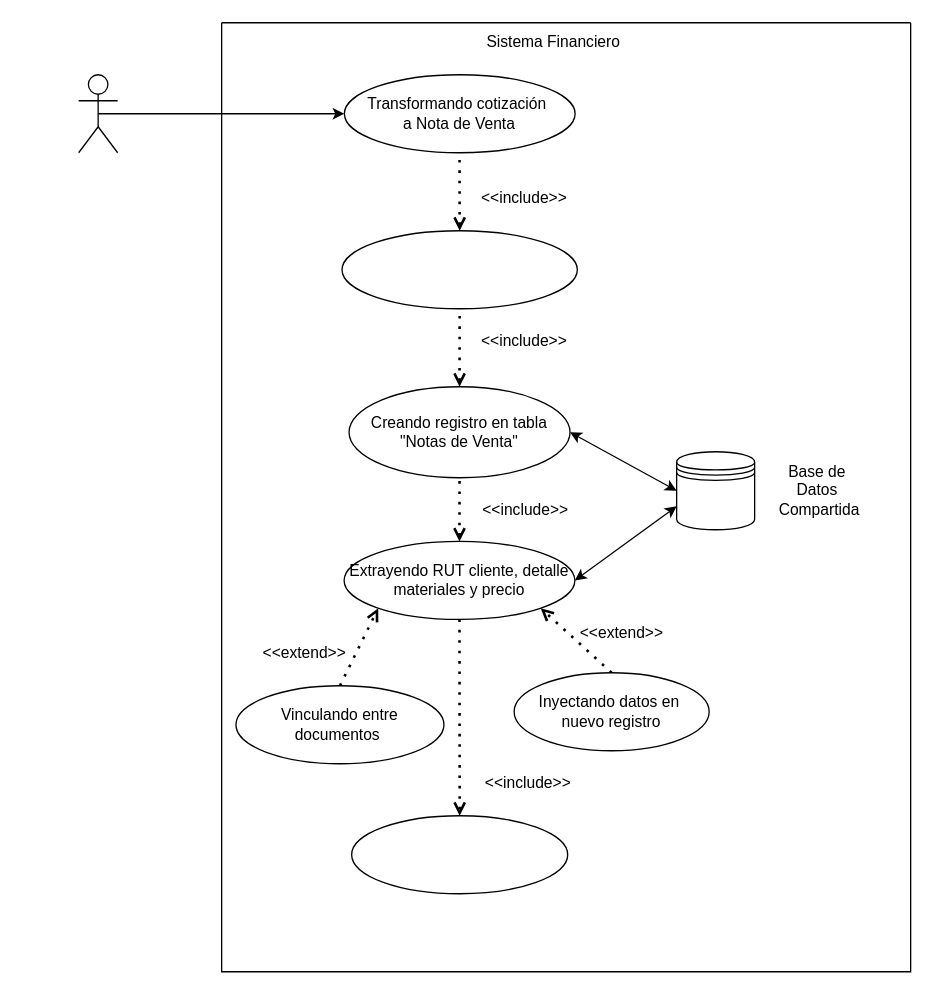
Some shapes in this 933 by 994 pixel diagram are drawn without their labels. The centre of each missing label's shape, as x and y in pixels:
Gerencia o Secretaria: point 97,113
Interactuando con Botón "Generar Nota de Venta": point 459,269
Redireccionando vista a nueva Nota de Venta: point 459,854
